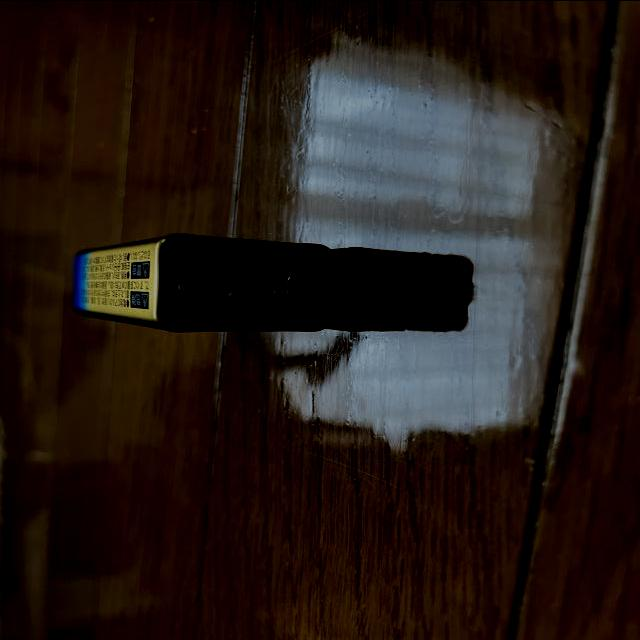9V: (72, 231, 328, 330)
